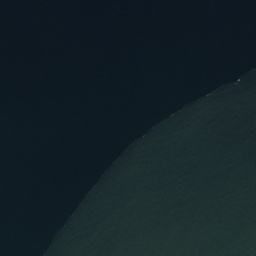Marine Debris: (68, 105, 187, 222), (236, 78, 241, 84)
